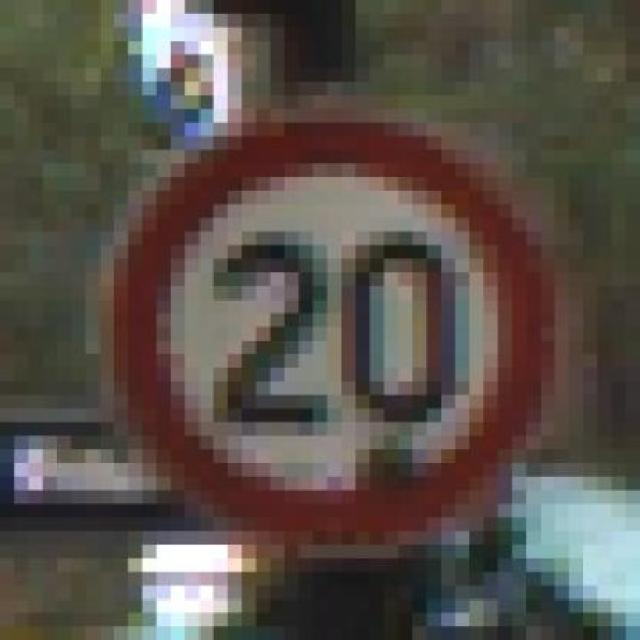forb_speed_over_20: (119, 119, 541, 542)
